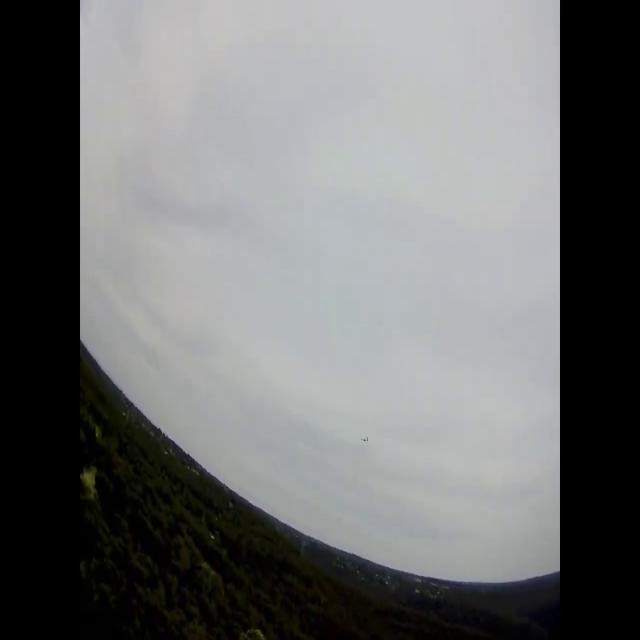iha: (364, 440, 366, 443)
